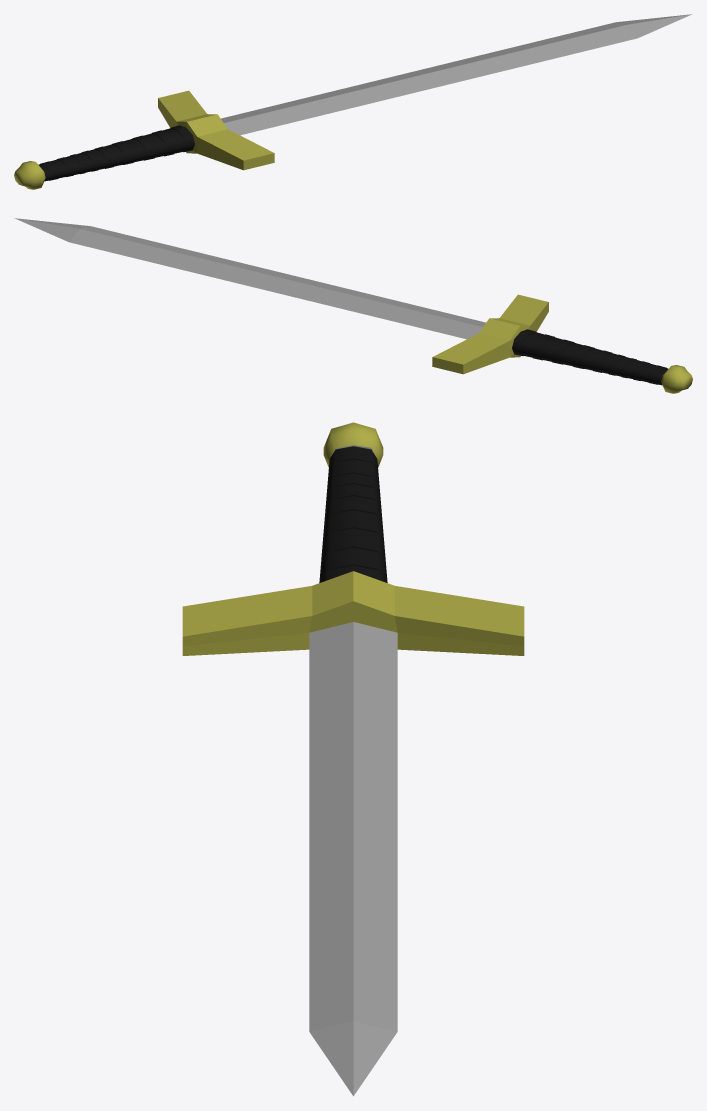
File: Sword.fbx
3 views of the same model, one above another, from view 1: azimuth 30°, elevation 25°; view 2: azimuth 150°, elevation 25°; view 3: azimuth 270°, elevation 25° (orthographic). The views are drawn at different scales.
Parts seen in each view (by area): view 1: pCube1; view 2: pCube1; view 3: pCube1.
Part boxes in pixels (x1,y1,x2,y2): pCube1: (14, 14, 692, 189); pCube1: (14, 218, 692, 393); pCube1: (182, 422, 524, 1096).
Bounding box in the file's own units: 52.31 × 2.34 × 11.49.
